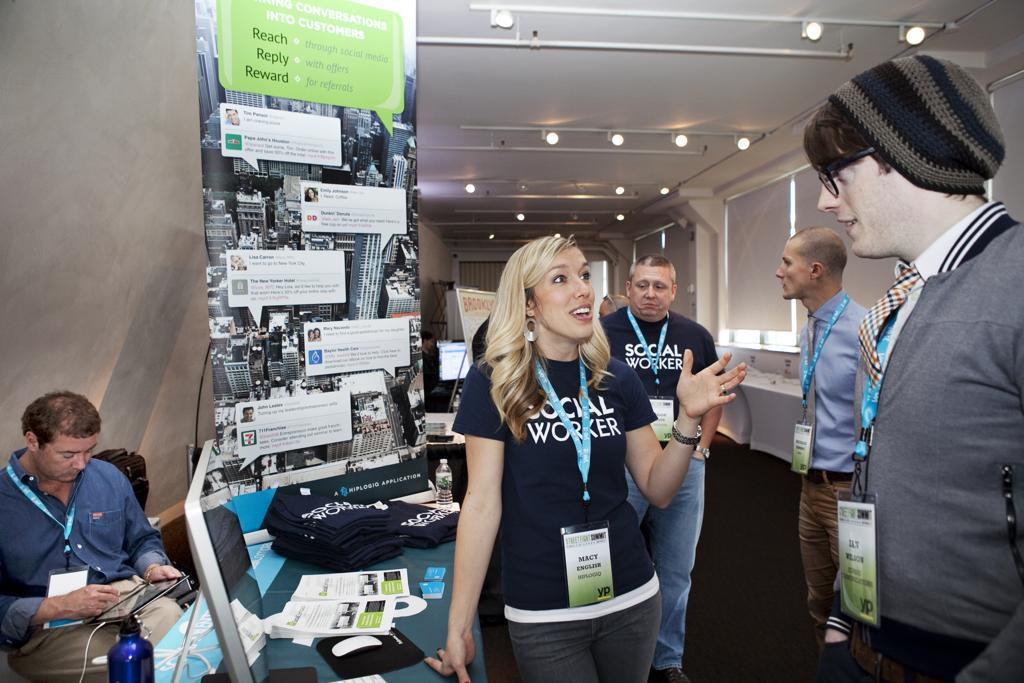face: (820, 128, 913, 257), (534, 254, 594, 337), (40, 441, 98, 481), (777, 240, 810, 299), (632, 270, 672, 316), (228, 111, 239, 124), (244, 411, 253, 421), (308, 190, 315, 198), (310, 332, 315, 339), (315, 331, 319, 337)
